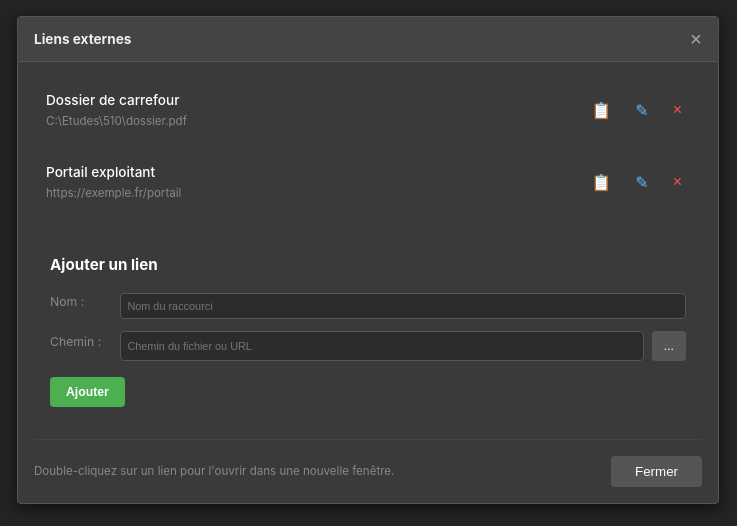
it: ExternalLinksModal › bascule le formulaire en édition puis annule sans rien modifier
What coordinates should you click on to do the following:
click the button titled "Modifier" in the row of "C:\\Etudes\\510\\dossier.pdf"
I would click on:
 (642, 110)
Its box is [627, 97, 657, 124].
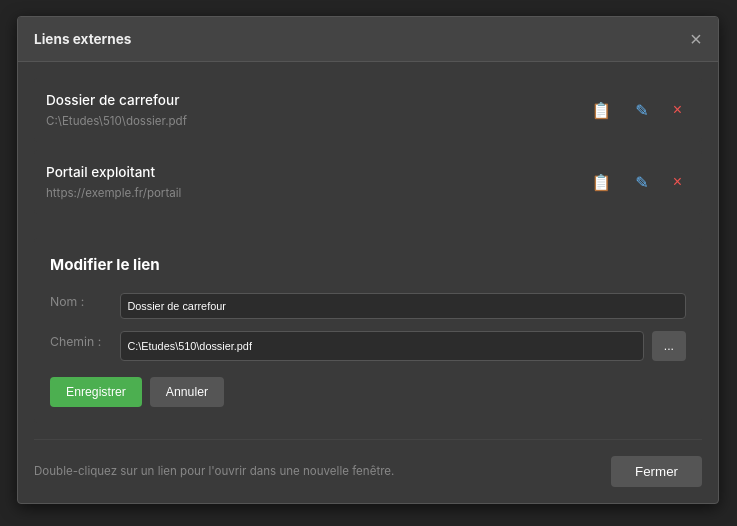
Expected: the heading "Modifier le lien" is shown, [50, 255, 160, 274]
Expected: the field with placeholder "Nom du raccourci" next to "Nom :" holds "Dossier de carrefour", [120, 293, 686, 320]
What coordinates should you click on to do the following:
click the button "Annuler"
I would click on:
 (187, 392)
Its box is [150, 378, 224, 408].
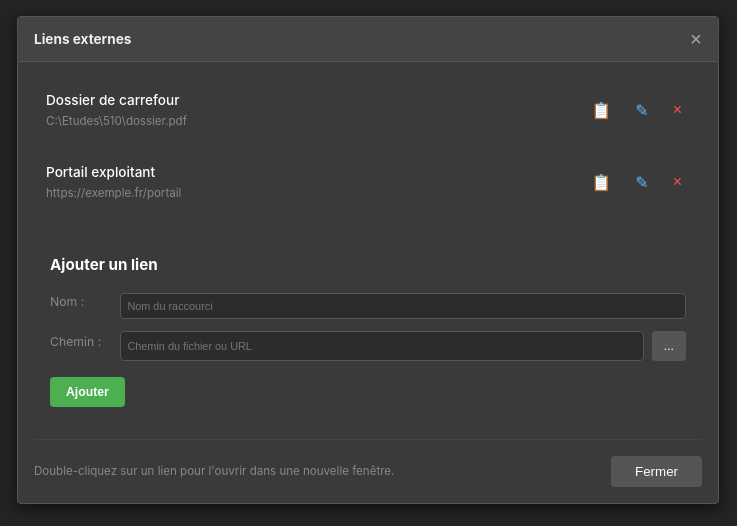
Expected: the heading "Ajouter un lien" is shown, [50, 255, 158, 274]
